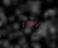five: (33, 19, 39, 27)
one: (18, 20, 24, 28)
zero: (26, 20, 32, 27)
